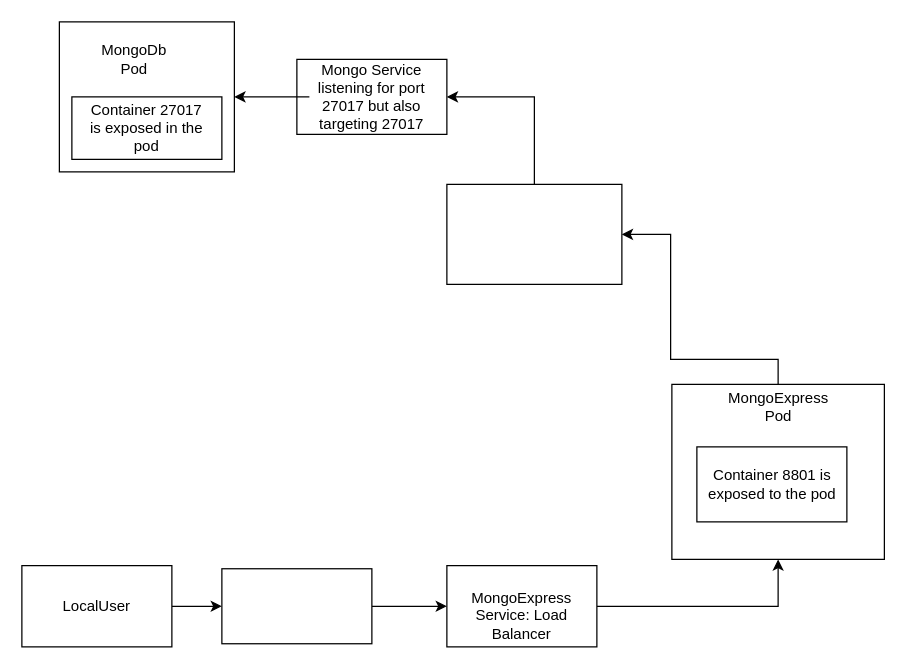
Image size: 906x669. Some labels were removed from this diagram. The shapes that lost their labels are listed below. From the top down, each one's centre as x and y in pixels, then its label:
point 534,233: MongoExpress pod is config mapped so it can talk to the mongo service
point 296,606: Cluster LoadBalancer exposes 8080 and forwards to 8081
